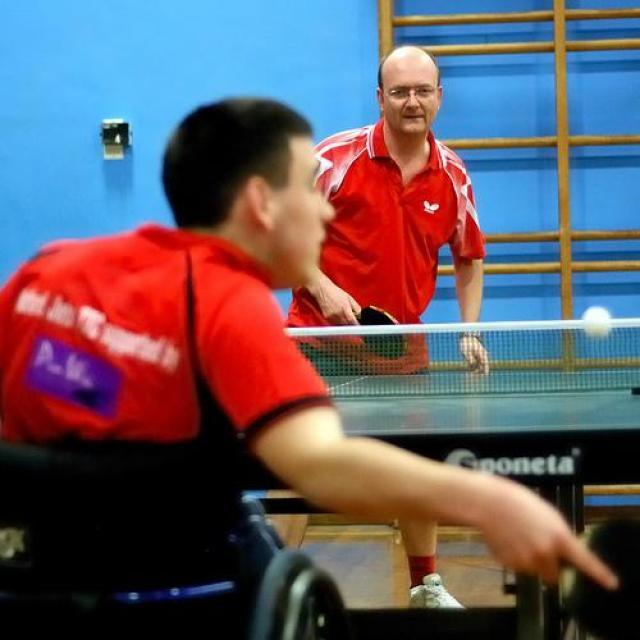ping-pong-ball: (580, 306, 612, 336)
